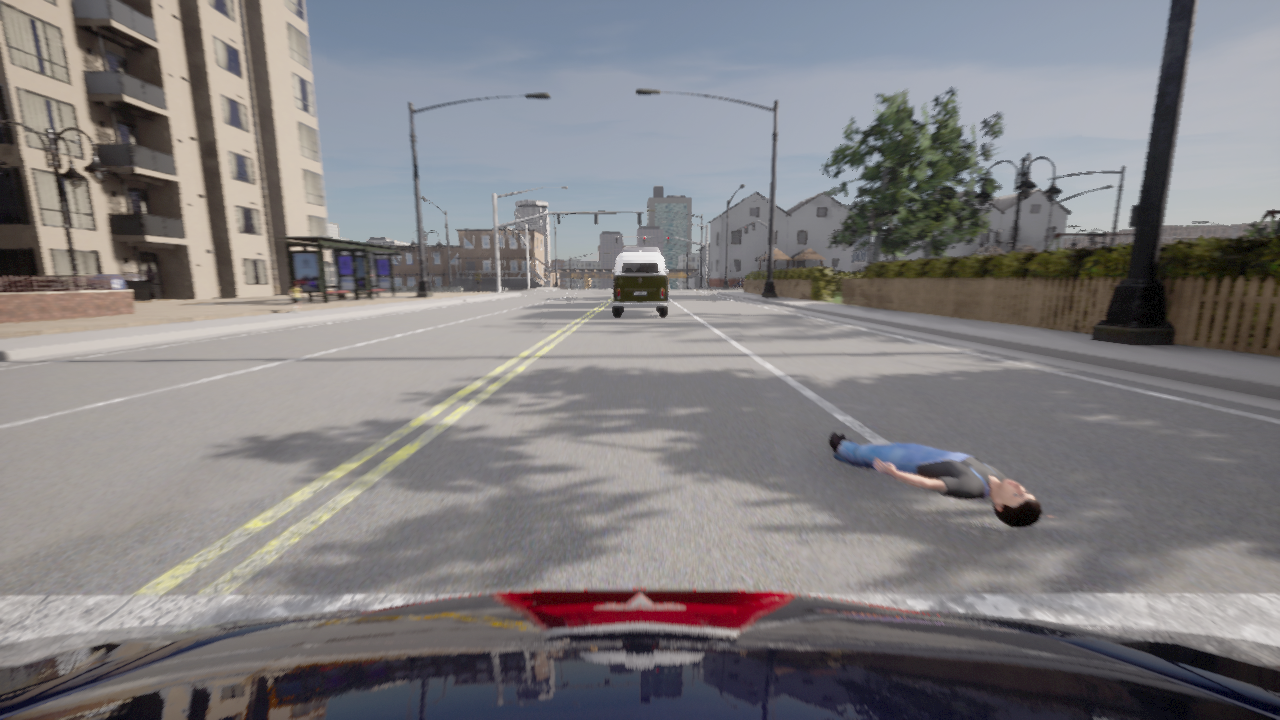cyclist: (0, 588, 1279, 719), (612, 252, 668, 316), (622, 247, 659, 253), (732, 279, 743, 289)
pedestrian: (828, 431, 1057, 527), (289, 281, 303, 313), (474, 268, 481, 293)
